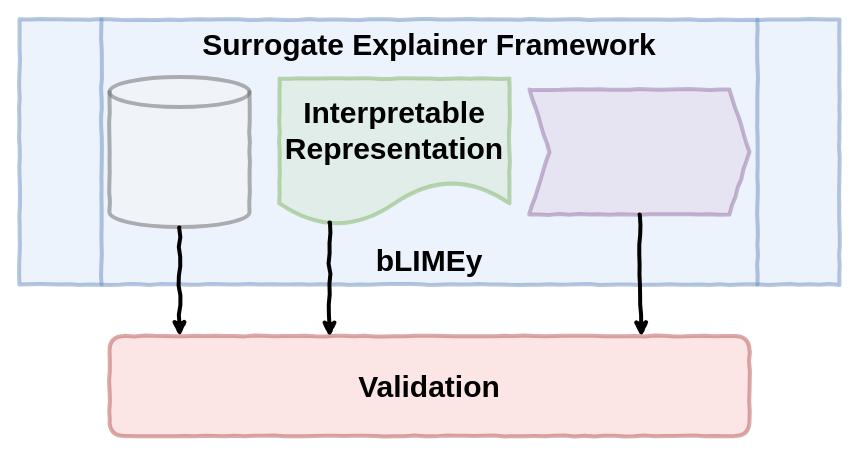
Some shapes in this 858 by 455 pixel diagram are drawn without their labels. Each missing label, with the centre of its shape:
"Data Sampling" belongs at pixel 179 151.
"Explanation Generation" belongs at pixel 639 151.
